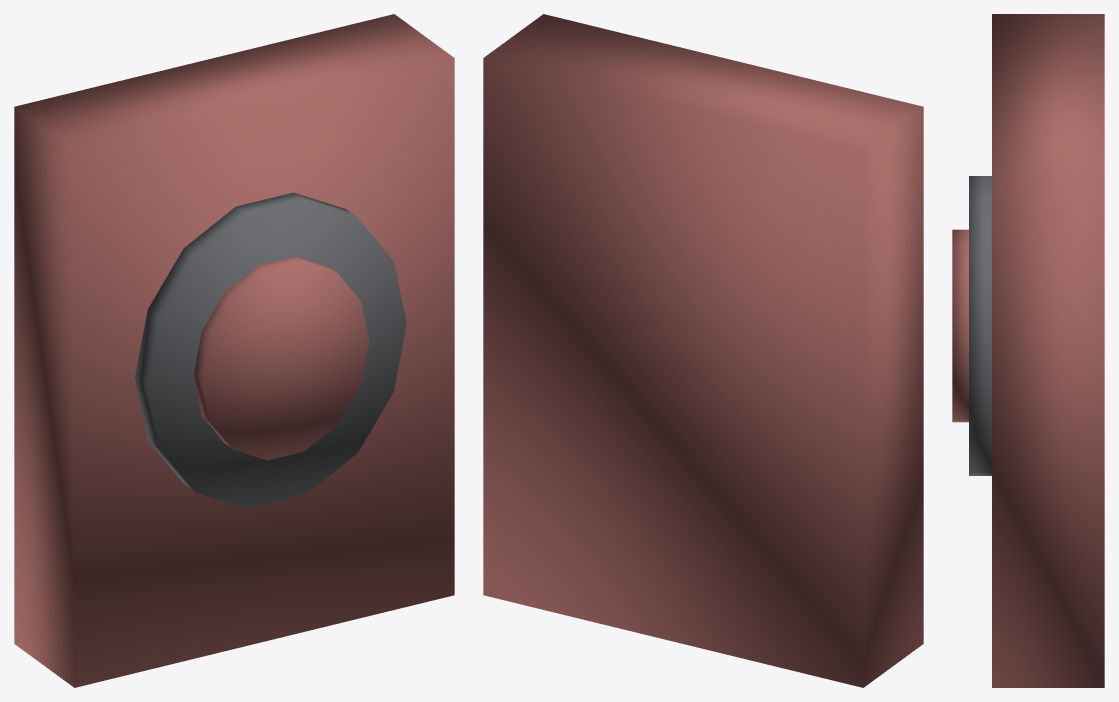
Rendered from fire_hose_rack__compact.glb.
3 views of the same model, side by side, from view 1: azimuth 30°, elevation 25°; view 2: azimuth 150°, elevation 25°; view 3: azimuth 270°, elevation 25° (orthographic). The views are drawn at different scales.
Parts seen in each view (by area): view 1: world; view 2: world; view 3: world.
Part boxes in pixels (x1,y1,x2,y2): world: [14, 14, 454, 687]; world: [483, 14, 923, 687]; world: [952, 14, 1104, 687].
Size of the model in its own units: 0.6888 by 0.93 by 0.2559.
